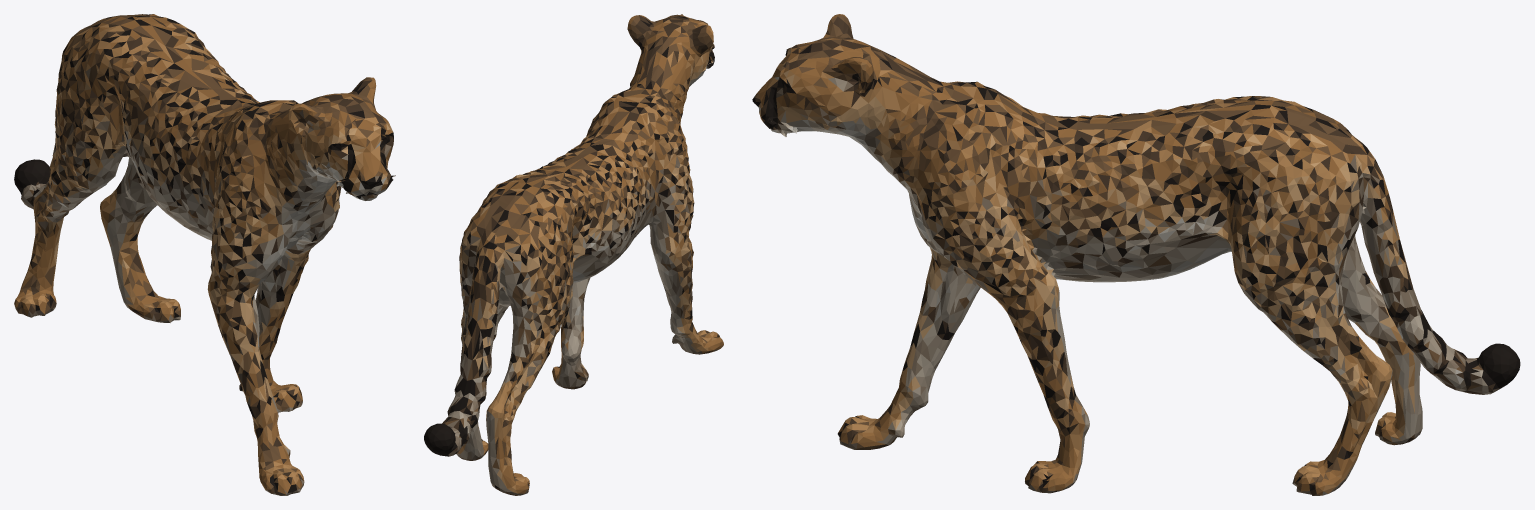
The model's file is acinonyx_jubatus.glb.
3 renders of one model, left to right at view 1: azimuth 30°, elevation 25°; view 2: azimuth 150°, elevation 25°; view 3: azimuth 270°, elevation 25°, orthographic. The views are drawn at different scales.
Visible parts, largest first — view 1: lod0; view 2: lod0; view 3: lod0.
Boxes of the visible parts, x1,y1,x2,y2 form: lod0: (14,14,395,495); lod0: (424,14,723,495); lod0: (752,14,1520,495).
Size of what is drawn, in the model's own units: 0.2678 by 0.7729 by 1.25.
